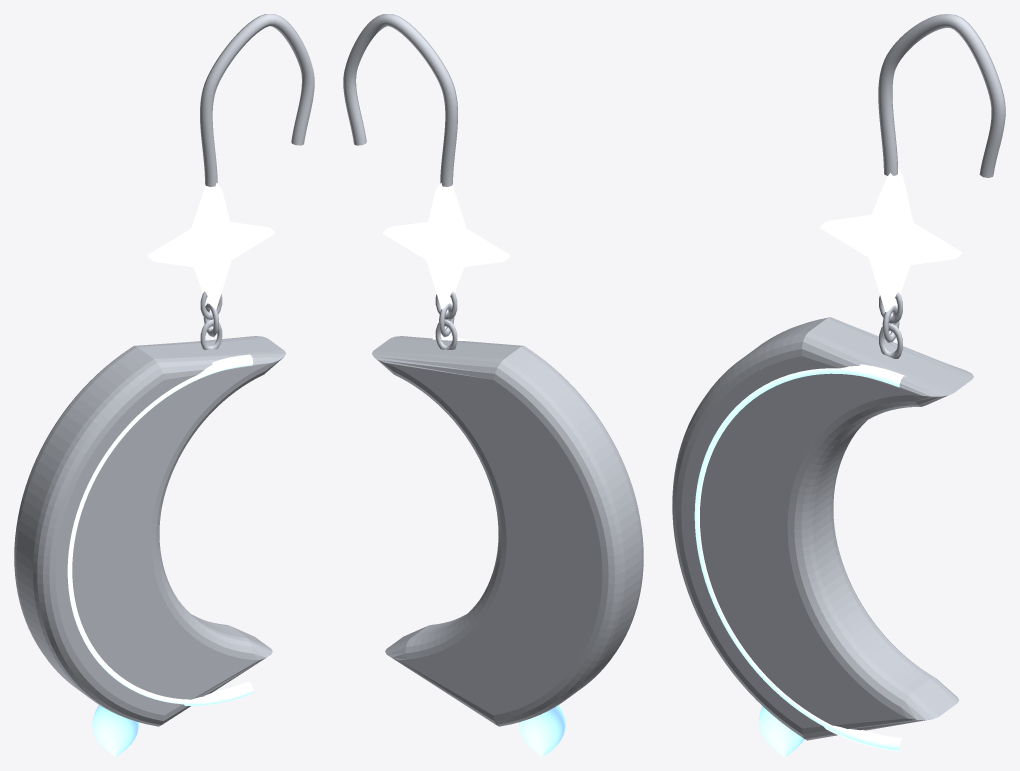
File: earring.glb
The picture shows the model from 3 angles, left to right: view 1: azimuth 30°, elevation 25°; view 2: azimuth 150°, elevation 25°; view 3: azimuth 330°, elevation 25°; orthographic projection. The views are drawn at different scales.
Visible parts, largest first — view 1: crescent, star, hook, inlay, drop, links; view 2: crescent, star, hook, drop, links; view 3: crescent, star, hook, inlay, drop, links.
Boxes of the visible parts, box(x1,y1,x2,y2) form: crescent: box(14, 336, 285, 726); star: box(148, 183, 274, 309); hook: box(200, 14, 314, 186); inlay: box(67, 354, 253, 705); drop: box(92, 705, 138, 756); links: box(200, 291, 222, 349); crescent: box(372, 336, 643, 726); star: box(383, 183, 509, 309); hook: box(343, 14, 457, 186); drop: box(519, 705, 565, 756); links: box(435, 291, 457, 349); crescent: box(672, 317, 973, 740); star: box(820, 168, 961, 312); hook: box(878, 14, 1005, 177); inlay: box(694, 364, 905, 751); drop: box(759, 706, 804, 756); links: box(879, 292, 902, 358).
Bounding box in the file's own units: 0.6044 × 1.41 × 0.122.
